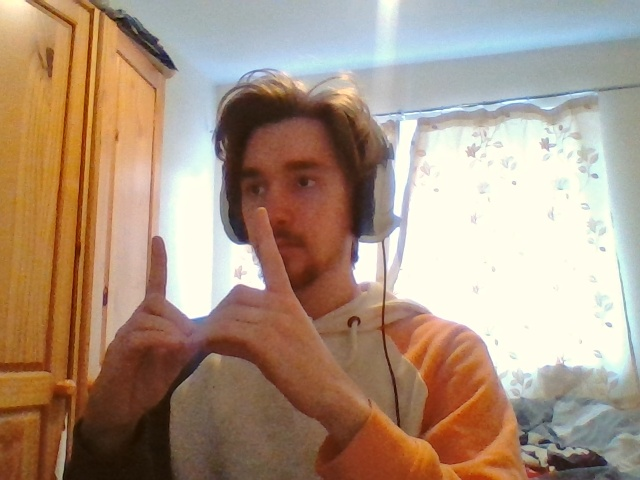meet: (130, 207, 280, 350)
